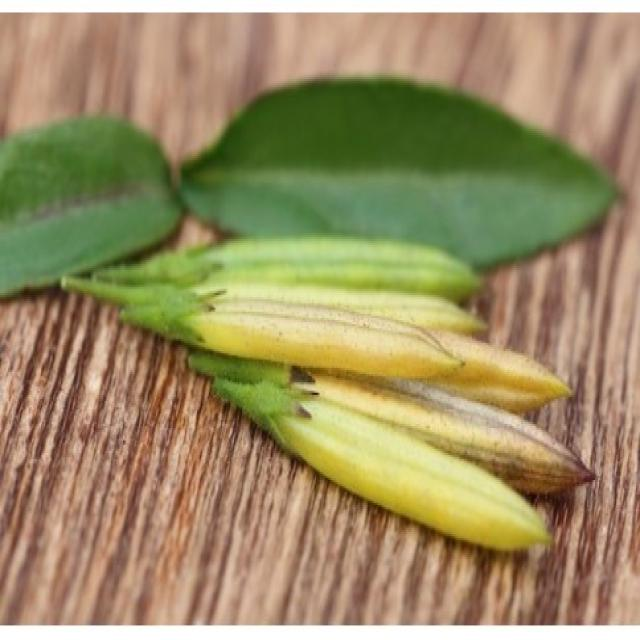Chirata: (108, 124, 530, 579)
